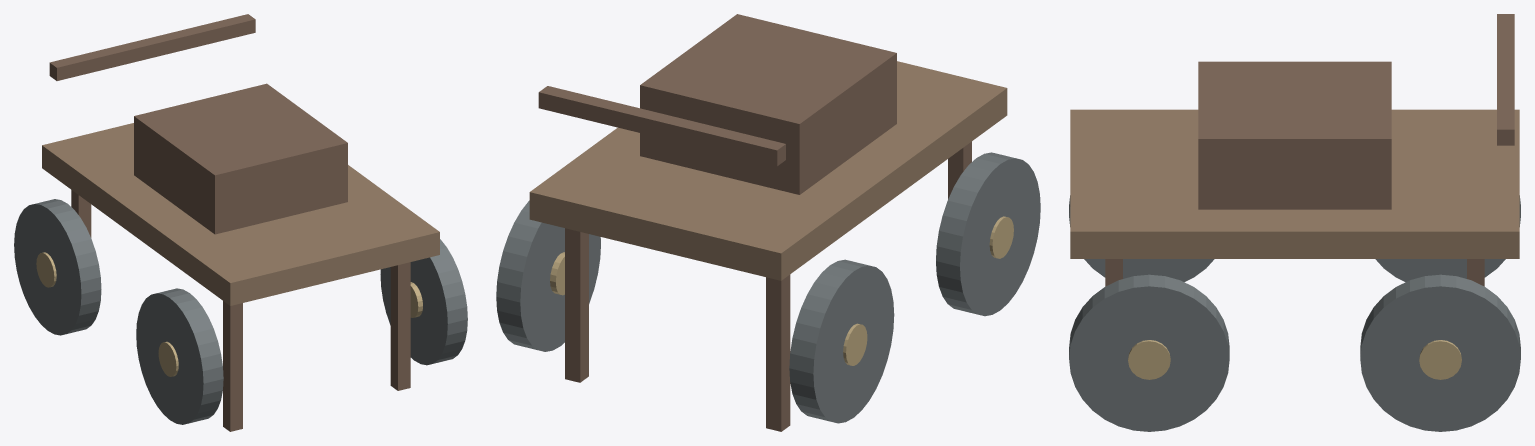
File: supply-cart.glb
3 renders of one model, left to right at view 1: azimuth 30°, elevation 25°; view 2: azimuth 150°, elevation 25°; view 3: azimuth 270°, elevation 25°, orthographic. The views are drawn at different scales.
Parts seen in each view (by area): view 1: cart-deck, supply-crate, wheel--0.670.58, wheel--0.67-0.58, wheel-0.670.58, upper-rail, post-0.460.72, post--0.460.72, hub--0.670.58, hub--0.67-0.58, post--0.46-0.72; view 2: cart-deck, supply-crate, wheel--0.67-0.58, wheel--0.670.58, wheel-0.67-0.58, upper-rail, post--0.46-0.72, post-0.46-0.72, hub--0.670.58, hub--0.67-0.58, post--0.460.72, hub-0.67-0.58; view 3: cart-deck, supply-crate, wheel-0.67-0.58, wheel-0.670.58, upper-rail, wheel--0.67-0.58, wheel--0.670.58, hub-0.67-0.58, hub-0.670.58, post-0.46-0.72, post-0.460.72.
Part boxes in pixels (<box>): cart-deck: <box>42,123,439,305</box>; supply-crate: <box>134,83,347,234</box>; wheel--0.670.58: <box>136,288,223,424</box>; wheel--0.67-0.58: <box>14,199,101,335</box>; wheel-0.670.58: <box>380,239,467,365</box>; upper-rail: <box>49,14,255,80</box>; post-0.460.72: <box>390,262,410,390</box>; post--0.460.72: <box>223,301,242,431</box>; hub--0.670.58: <box>158,341,178,376</box>; hub--0.67-0.58: <box>36,252,56,287</box>; post--0.46-0.72: <box>71,190,91,237</box>; cart-deck: <box>529,61,1007,280</box>; supply-crate: <box>640,14,896,194</box>; wheel--0.67-0.58: <box>789,259,894,423</box>; wheel--0.670.58: <box>936,152,1040,316</box>; wheel-0.67-0.58: <box>496,200,600,351</box>; upper-rail: <box>538,86,785,166</box>; post--0.46-0.72: <box>766,274,790,431</box>; post-0.46-0.72: <box>565,228,588,382</box>; hub--0.670.58: <box>989,216,1013,258</box>; hub--0.67-0.58: <box>843,323,867,365</box>; post--0.460.72: <box>948,141,971,199</box>; hub-0.67-0.58: <box>550,252,564,295</box>; cart-deck: <box>1070,109,1519,258</box>; supply-crate: <box>1198,61,1391,209</box>; wheel-0.67-0.58: <box>1360,274,1520,431</box>; wheel-0.670.58: <box>1069,274,1229,431</box>; upper-rail: <box>1497,14,1514,145</box>; wheel--0.67-0.58: <box>1375,195,1520,282</box>; wheel--0.670.58: <box>1069,195,1214,282</box>; hub-0.67-0.58: <box>1419,340,1461,379</box>; hub-0.670.58: <box>1128,340,1170,379</box>; post-0.46-0.72: <box>1467,259,1484,286</box>; post-0.460.72: <box>1105,259,1122,286</box>.
Bounding box in the file's own units: 1.48 × 1.29 × 1.8.
